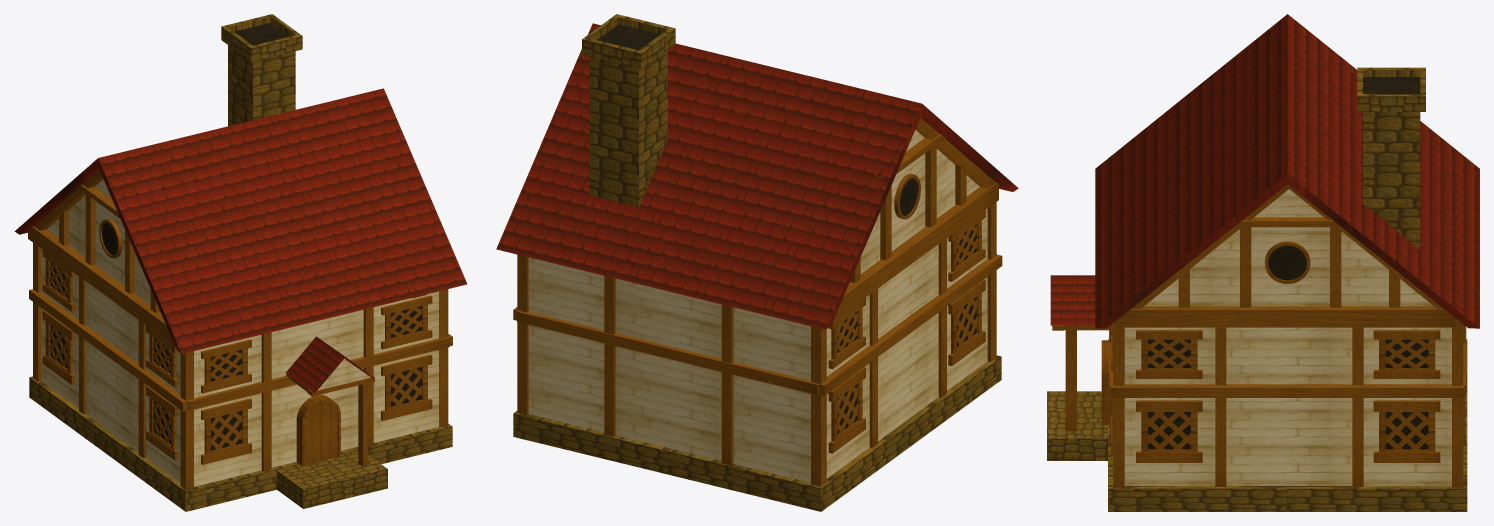
Rendered from house.fbx.
3 views of the same model, side by side, from view 1: azimuth 30°, elevation 25°; view 2: azimuth 150°, elevation 25°; view 3: azimuth 270°, elevation 25° (orthographic). The views are drawn at different scales.
Parts seen in each view (by area): view 1: 큐브.075; view 2: 큐브.075; view 3: 큐브.075.
Boxes of the visible parts, box(x1,y1,x2,y2) form: 큐브.075: box(14, 14, 466, 511); 큐브.075: box(496, 14, 1018, 511); 큐브.075: box(1047, 14, 1479, 511).
Size of the model in its own units: 350 by 400 by 400.
